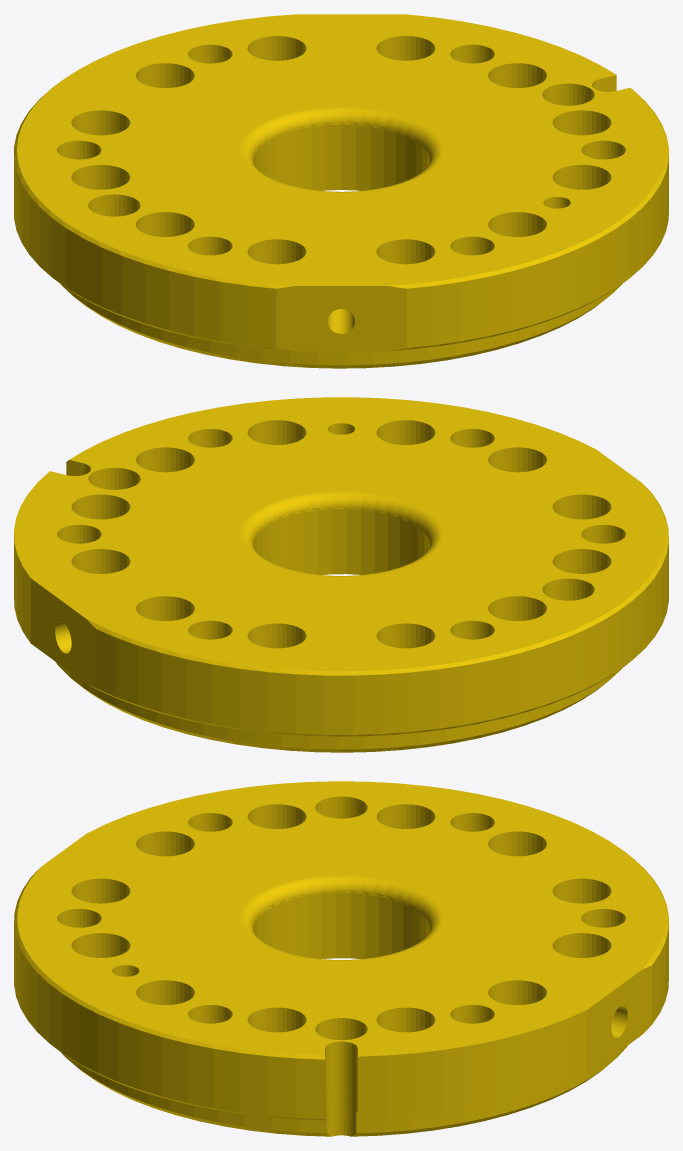
3 views of the same model, one above another, from view 1: azimuth 30°, elevation 25°; view 2: azimuth 150°, elevation 25°; view 3: azimuth 270°, elevation 25° (orthographic).
Visible parts, largest first — view 1: Visual; view 2: Visual; view 3: Visual.
Part boxes in pixels (box(x1,y1,x2,y2)): Visual: box(14, 14, 668, 368); Visual: box(14, 397, 668, 752); Visual: box(14, 781, 668, 1136).
Size of the model in its own units: 0.0999 by 0.1 by 0.0158.
